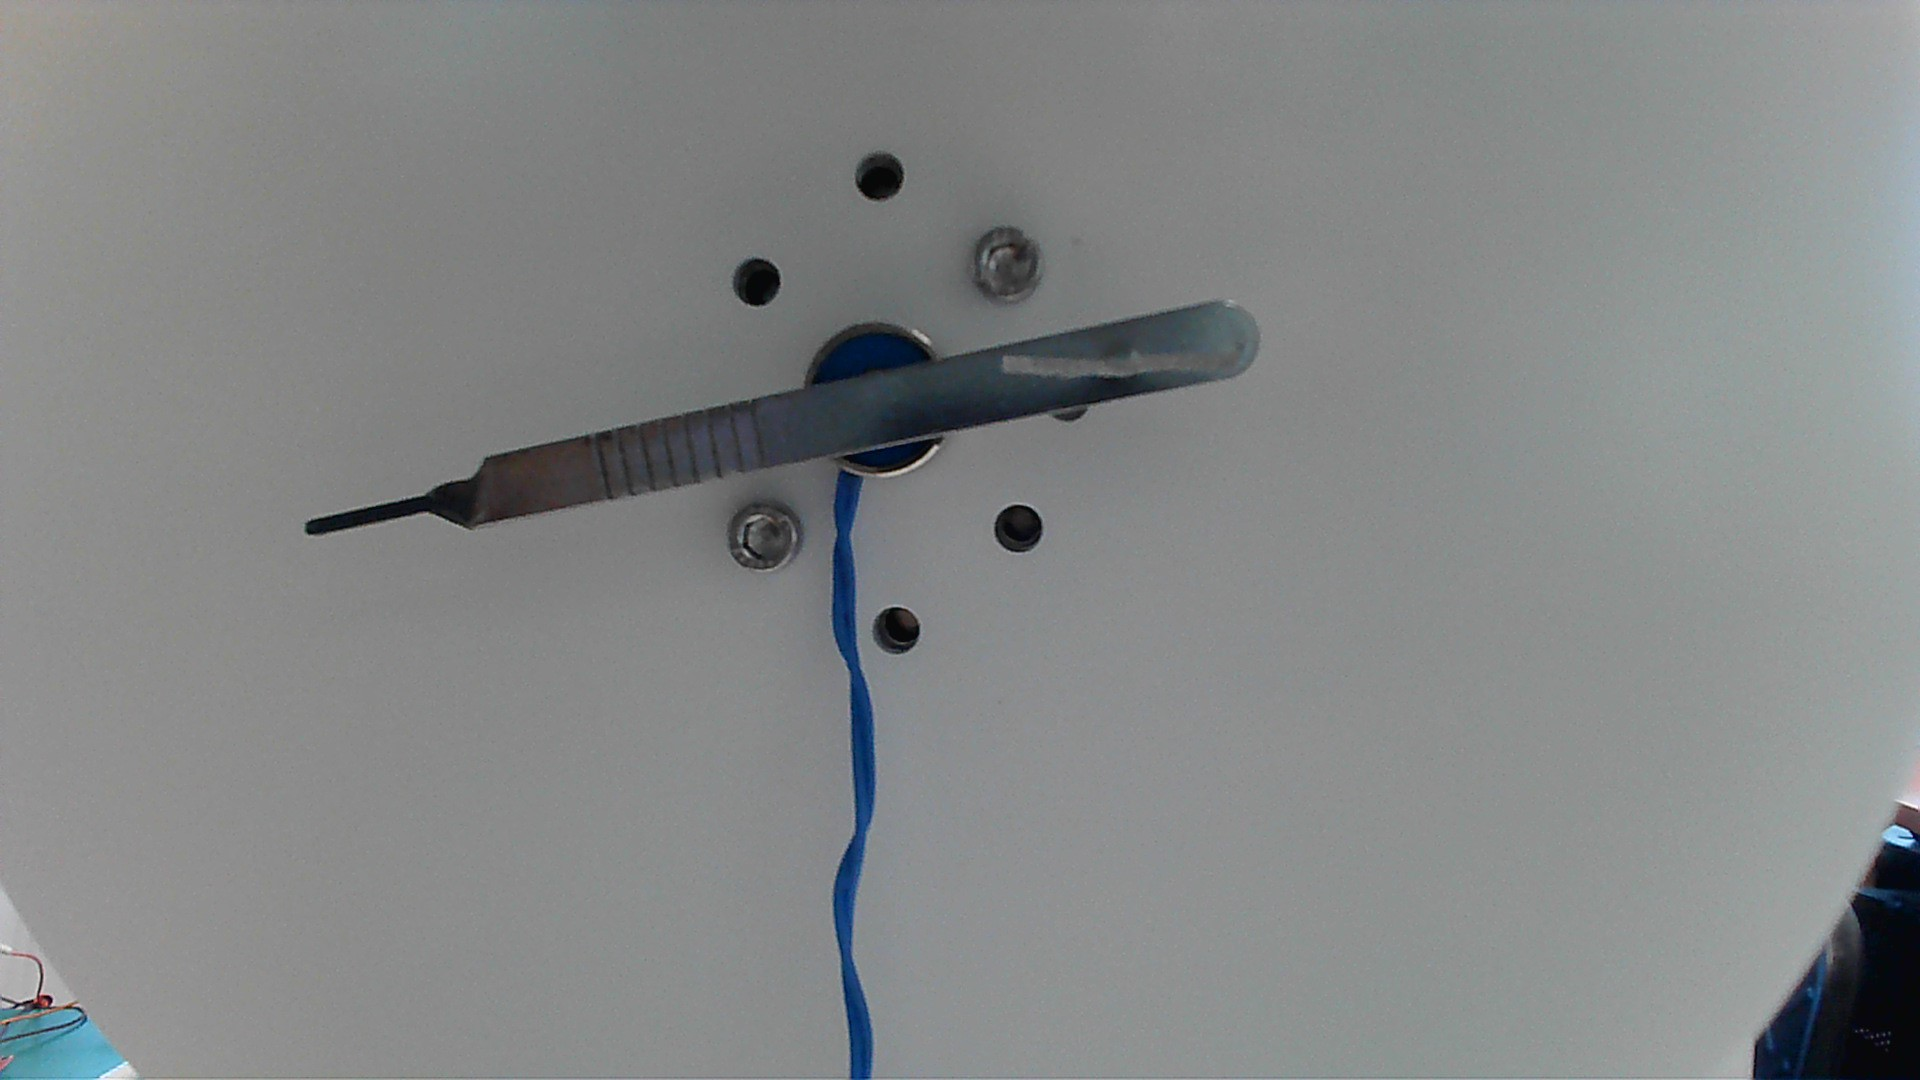Scratches: (986, 340, 1249, 381)
